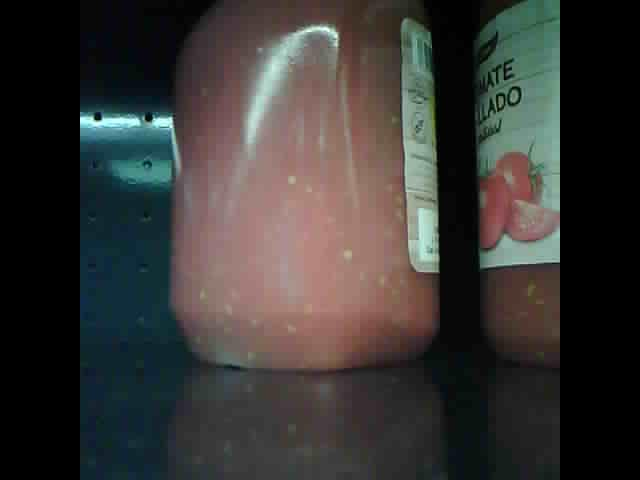tomate: (171, 2, 441, 371), (480, 3, 559, 368)
